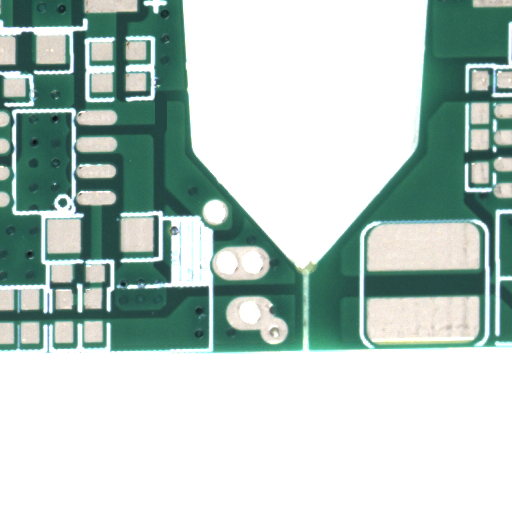Open_circuit: (161, 115, 174, 146)
